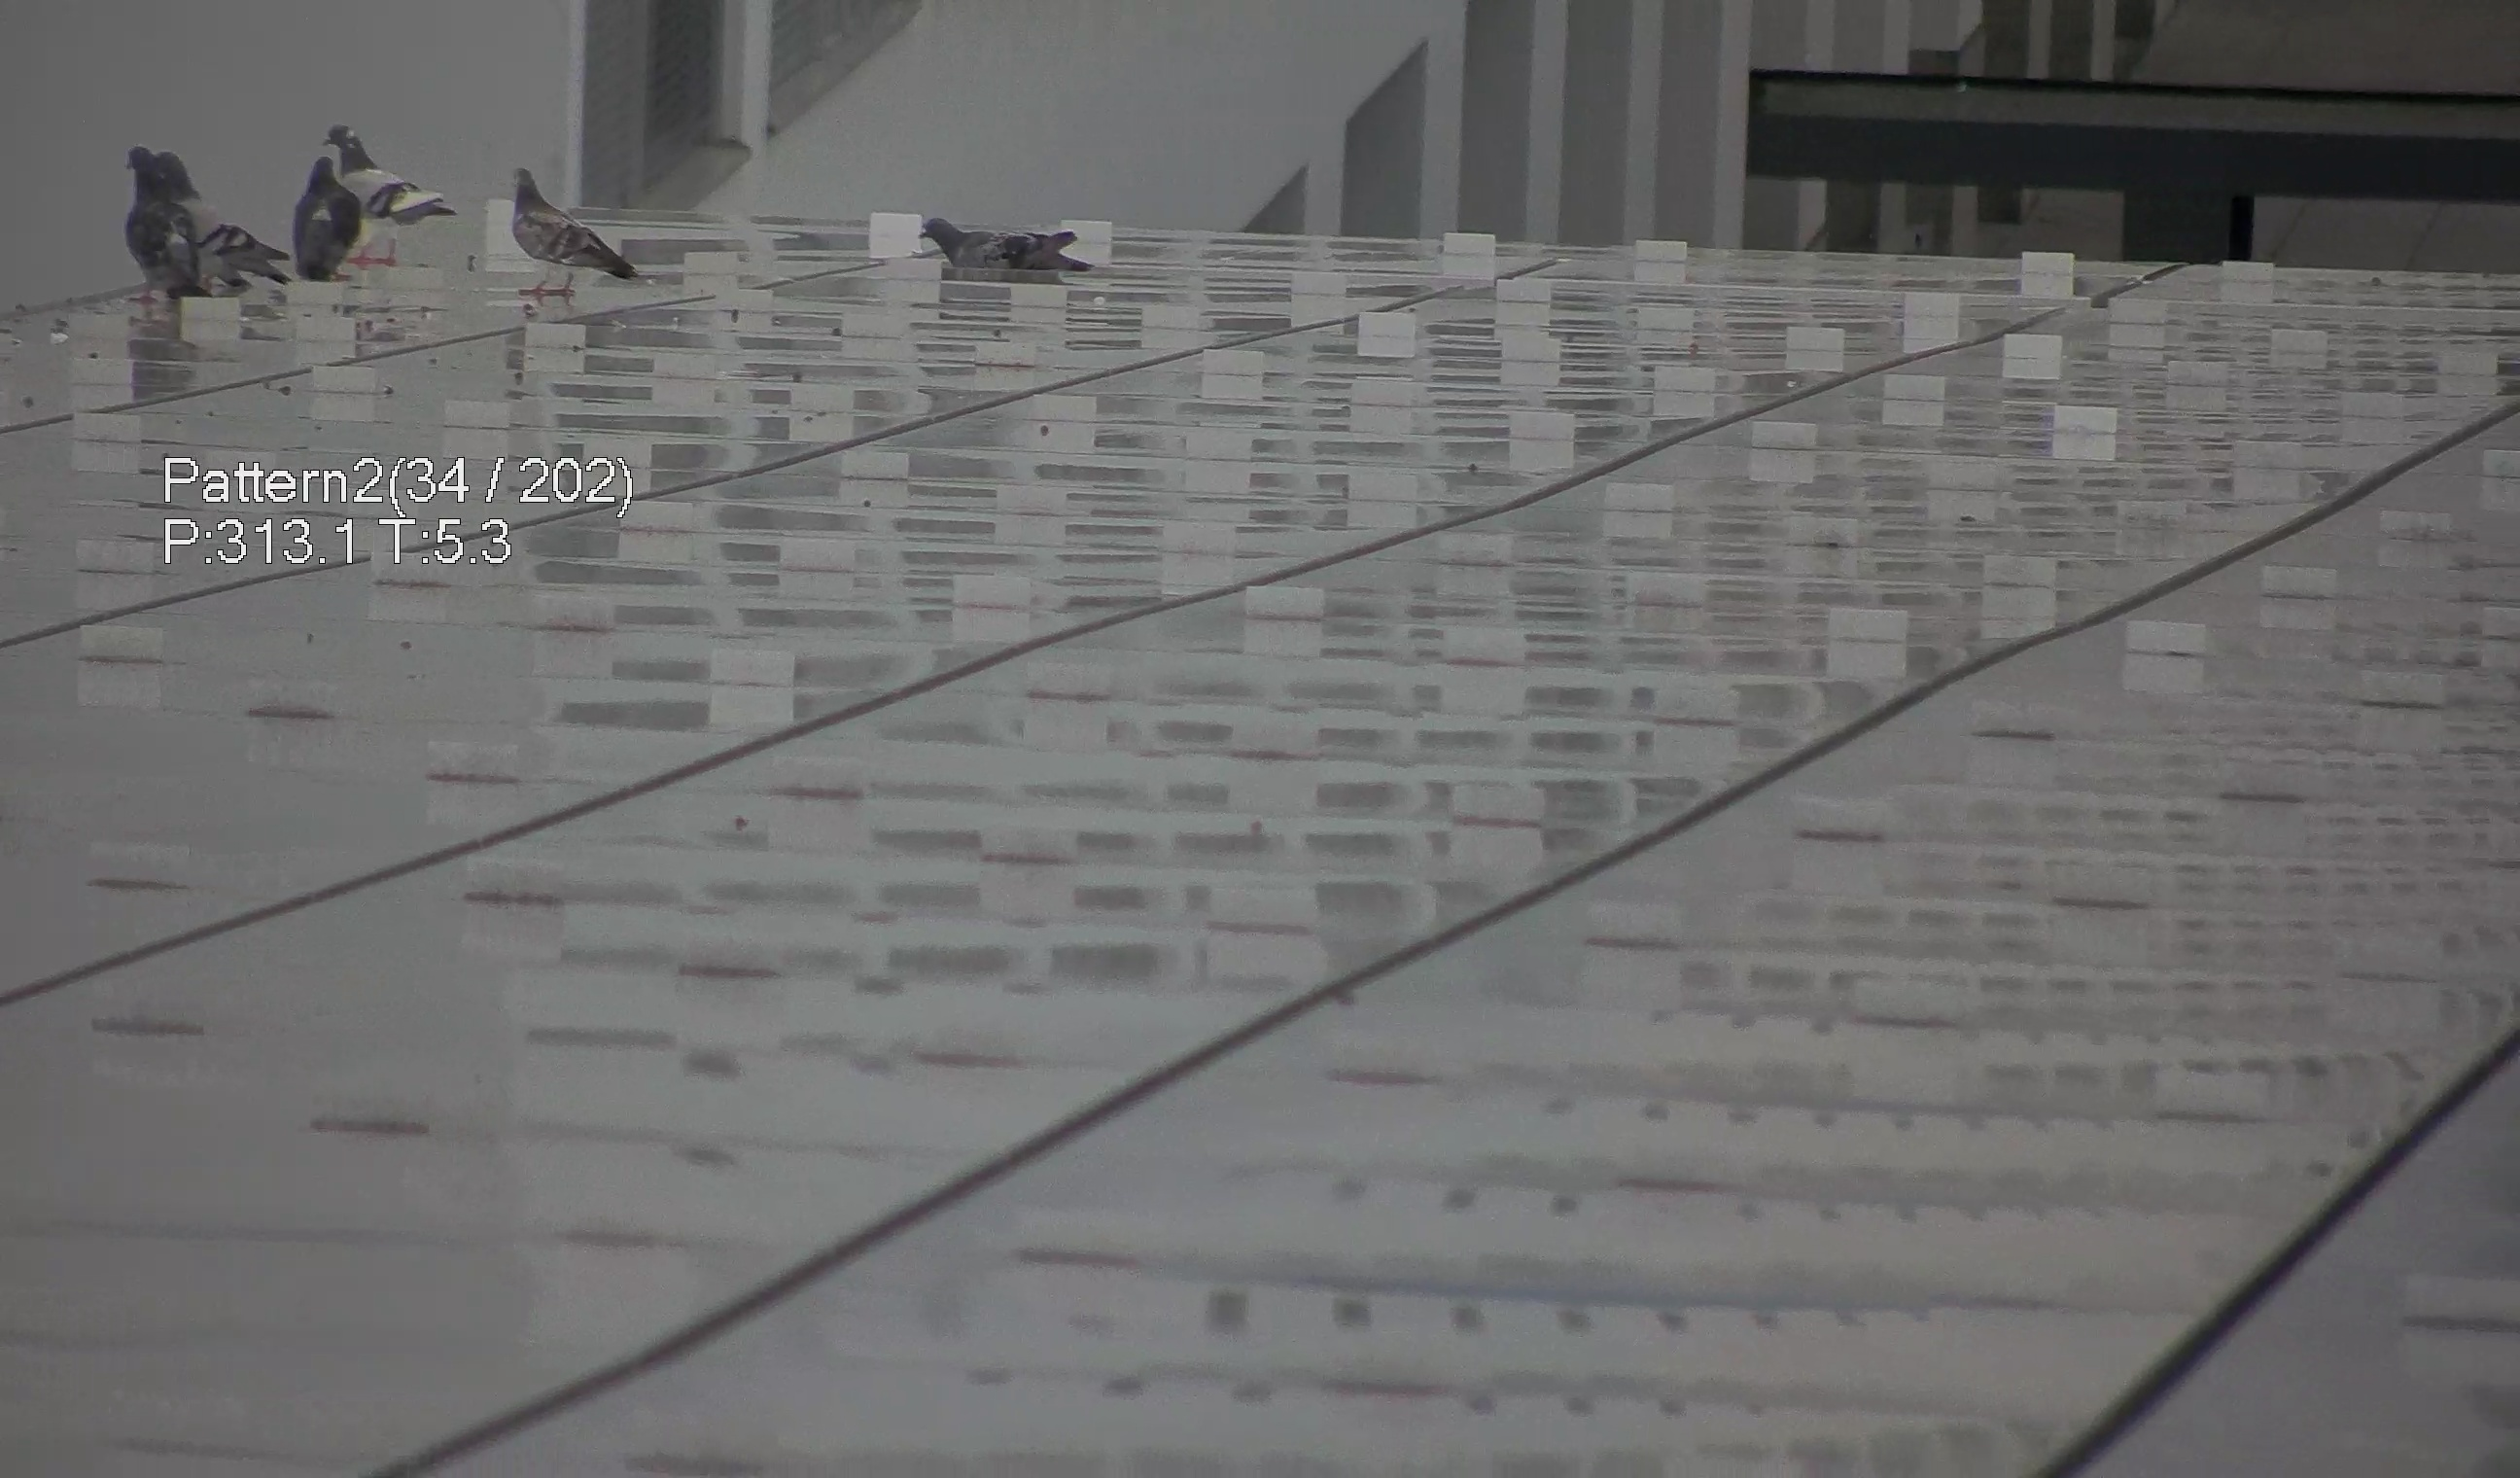Pigeon: (114, 125, 281, 310), (489, 153, 638, 301), (294, 121, 431, 253), (274, 135, 373, 274), (906, 204, 1106, 271)
